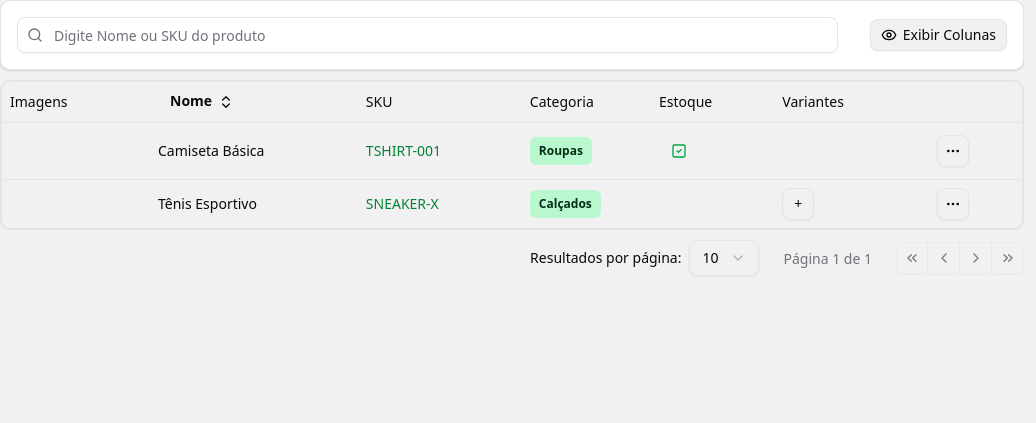
Test: ProductListTable (Integration) › should expand row and show variants when expand button is clicked
Step 1. Click the button "+" → (798, 204), box [782,188,814,220]
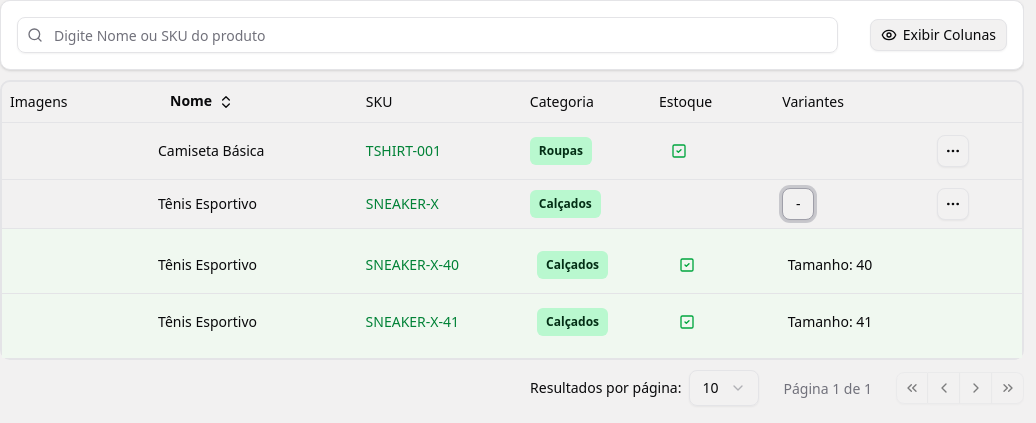
Check: the text "SNEAKER-X-40" is shown, box [366,254,459,274]
Check: the text "SNEAKER-X-41" is shown, box [366,312,459,330]
